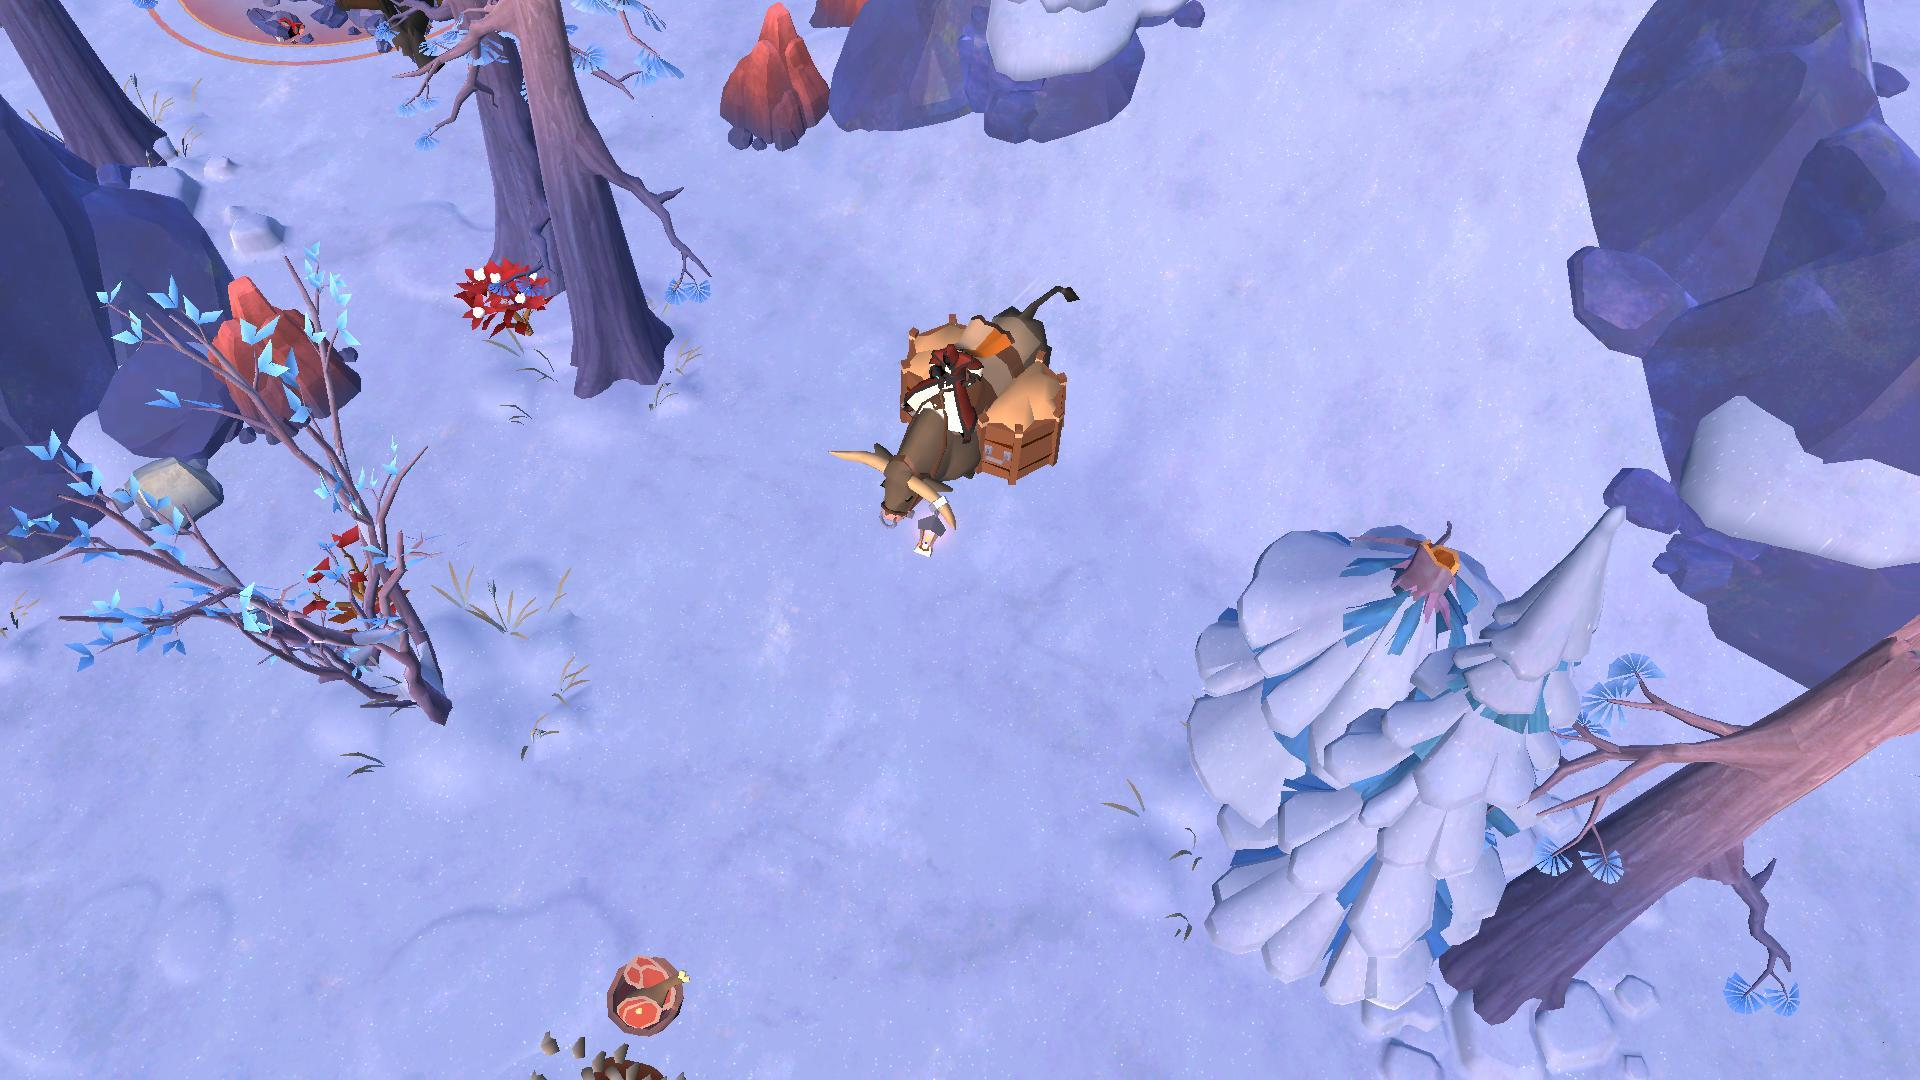fiber_t5: (443, 256, 560, 344)
rock_t5: (207, 268, 367, 440), (707, 8, 833, 148)
